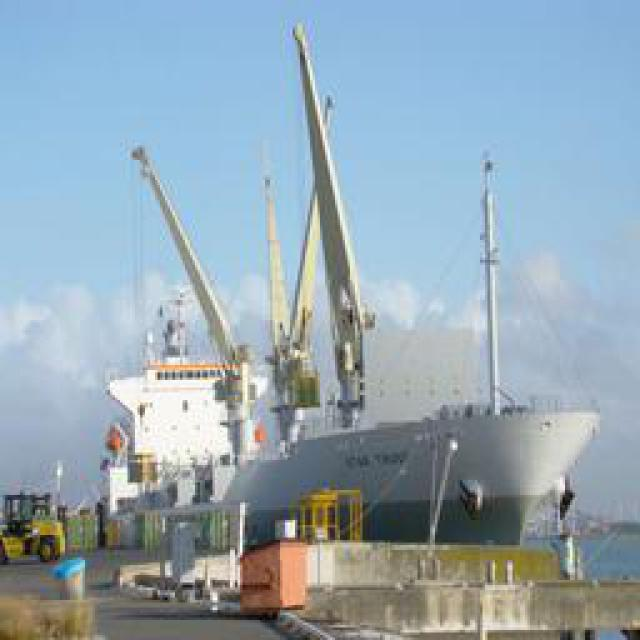Ship: (110, 26, 590, 569)
